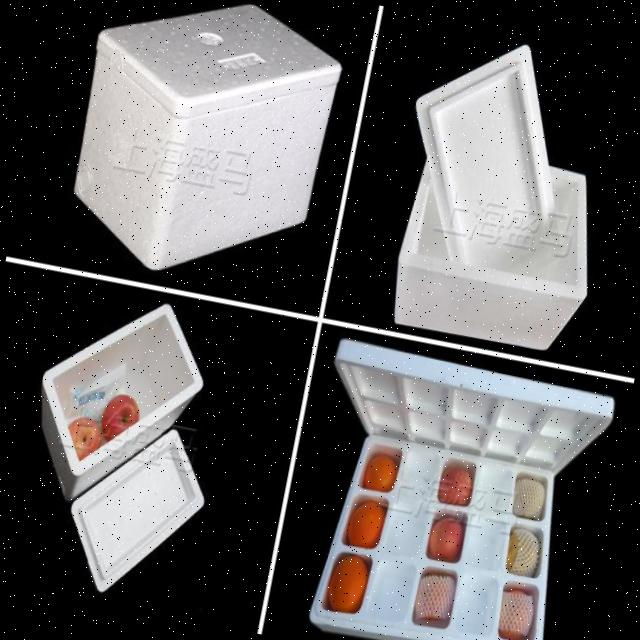styrofoam: (281, 336, 618, 640), (55, 0, 351, 298), (372, 24, 632, 359), (19, 282, 217, 522), (55, 410, 218, 609)
